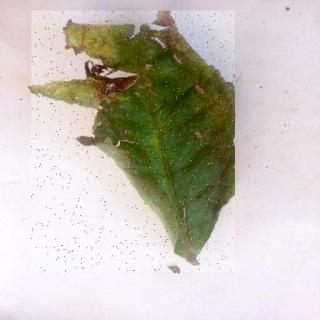Brown Blight: (33, 12, 237, 273)
